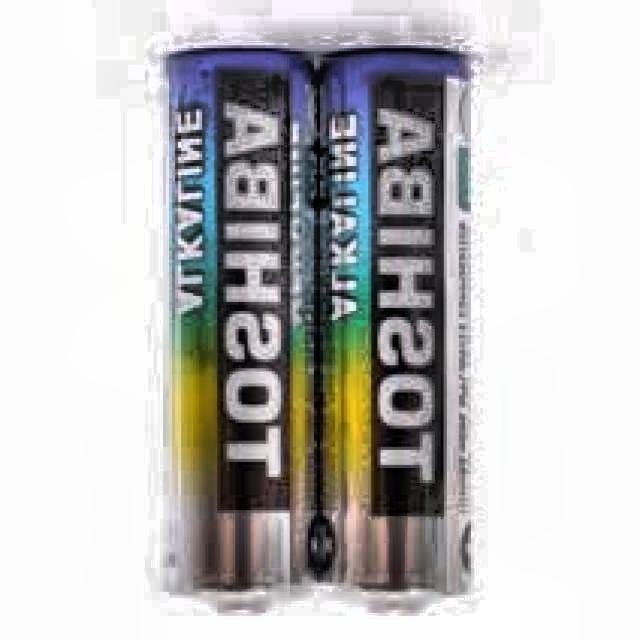battery: (166, 50, 471, 613)
